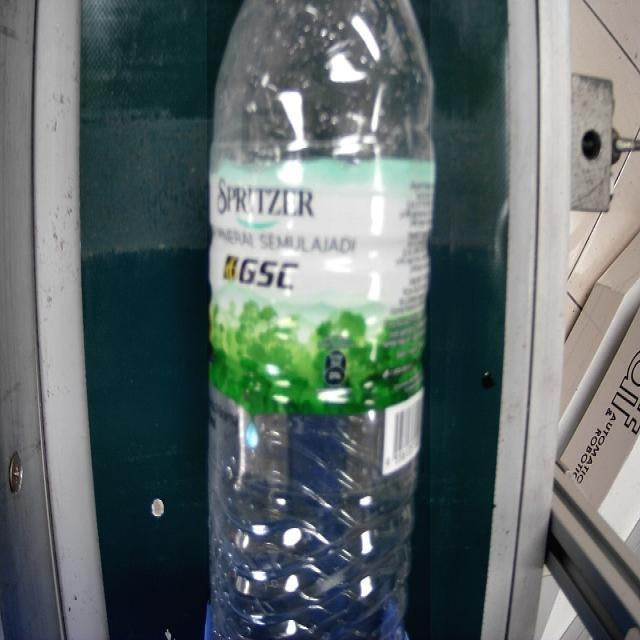Pet_Bottle: (207, 0, 430, 640)
